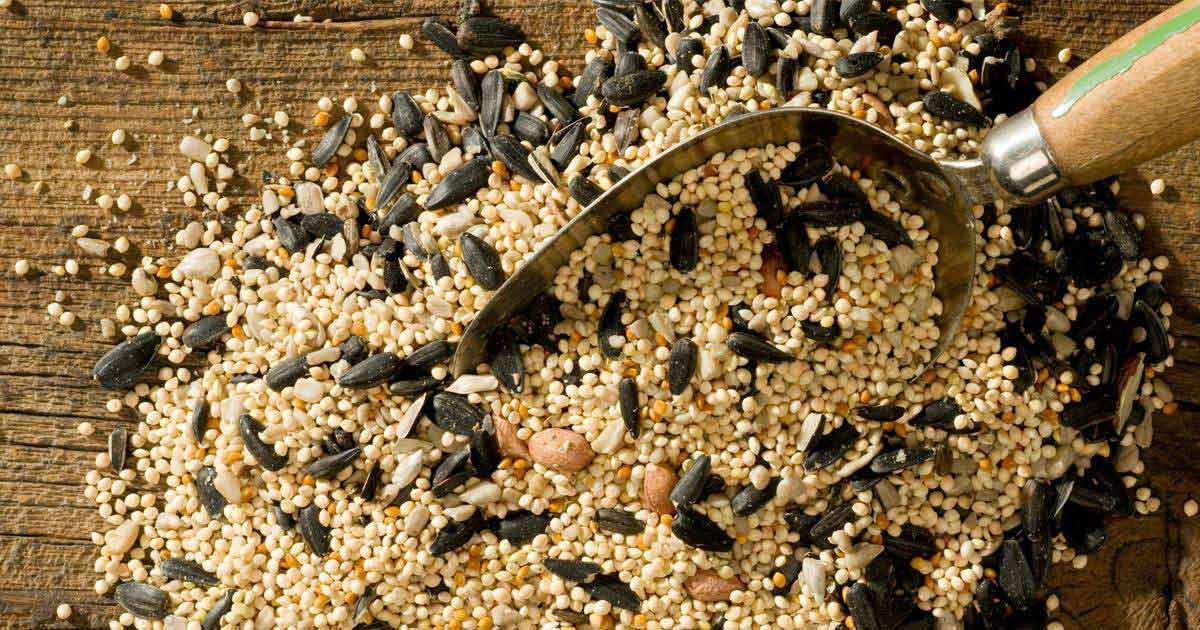seed: (93, 4, 1189, 630)
